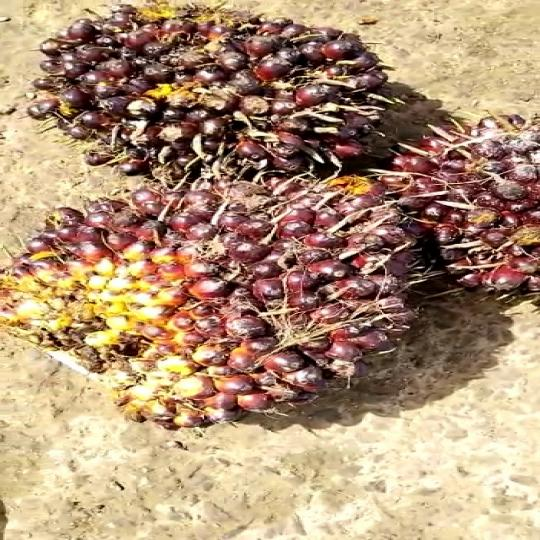kurang masak: (38, 178, 431, 429), (34, 0, 412, 184)
